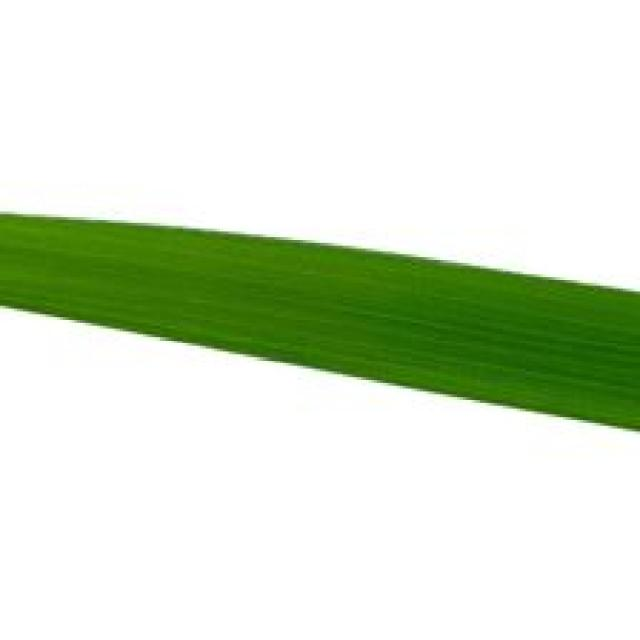Rice___Healthy_Rice_Plant: (2, 210, 637, 434)
